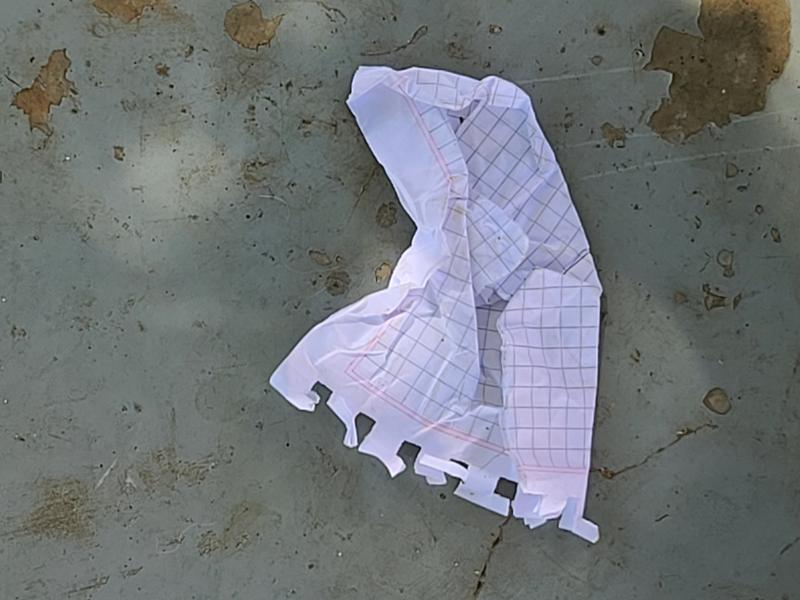papel: (270, 67, 605, 542)
